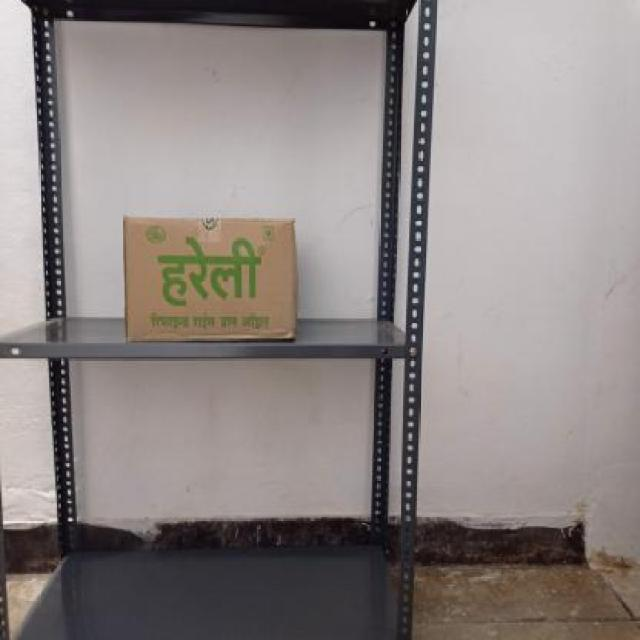box: (123, 215, 297, 341)
